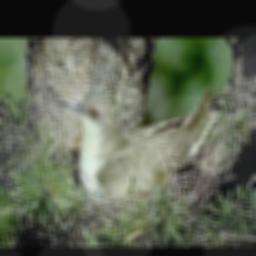Cuckoo: (53, 88, 213, 202)
